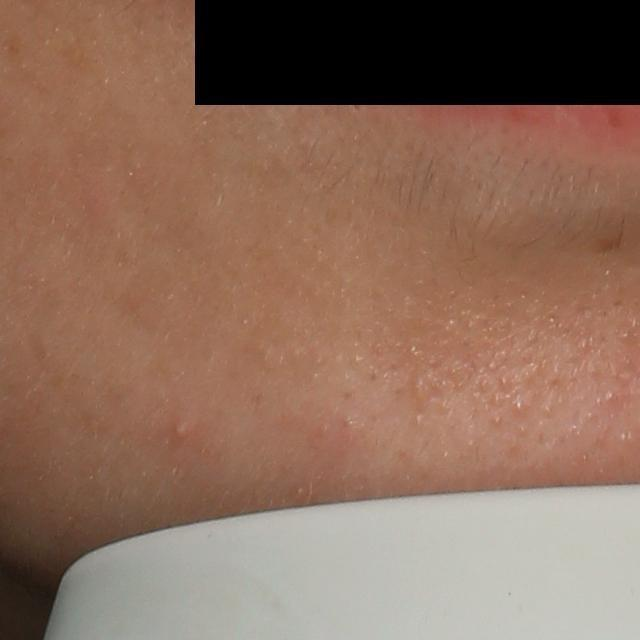comedo: (510, 398, 526, 416)
